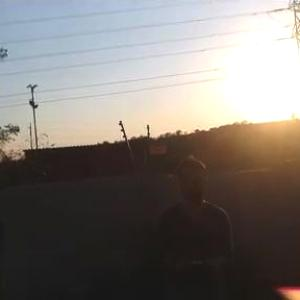follow: (154, 153, 243, 299)
